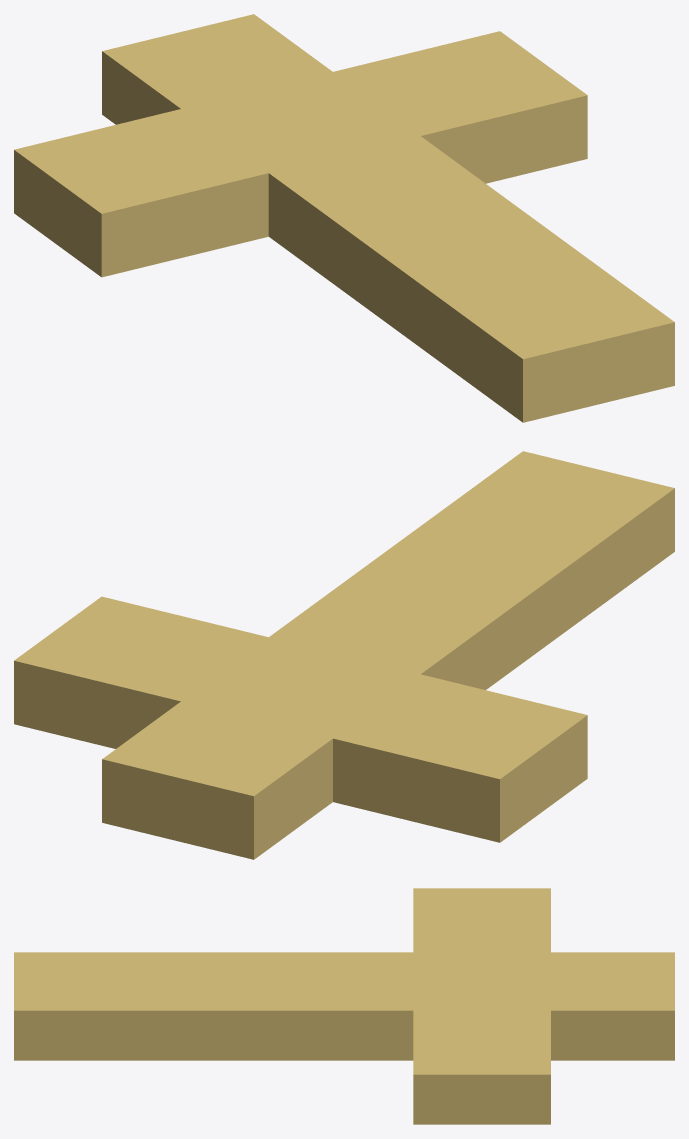
Rendered from haunted_occultamulet.glb.
The picture shows the model from 3 angles, top to bottom: view 1: azimuth 30°, elevation 25°; view 2: azimuth 150°, elevation 25°; view 3: azimuth 270°, elevation 25°; orthographic projection. The views are drawn at different scales.
Visible parts, largest first — view 1: Haunted_OccultAmulet; view 2: Haunted_OccultAmulet; view 3: Haunted_OccultAmulet.
Boxes of the visible parts, x1,y1,x2,y2 form: Haunted_OccultAmulet: (14, 14, 674, 422); Haunted_OccultAmulet: (14, 451, 674, 859); Haunted_OccultAmulet: (14, 888, 674, 1124).
Bounding box in the file's own units: 0.16 × 0.02 × 0.24.
